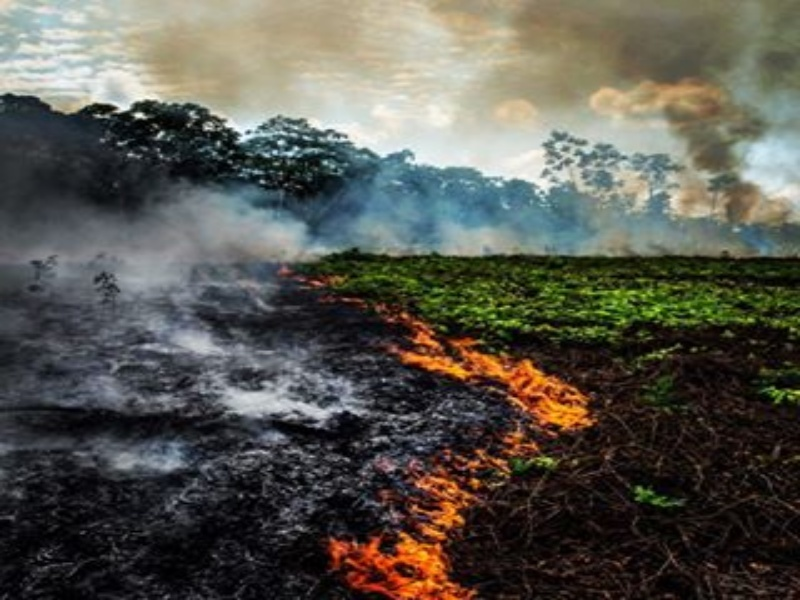smoke: (6, 177, 502, 256)
